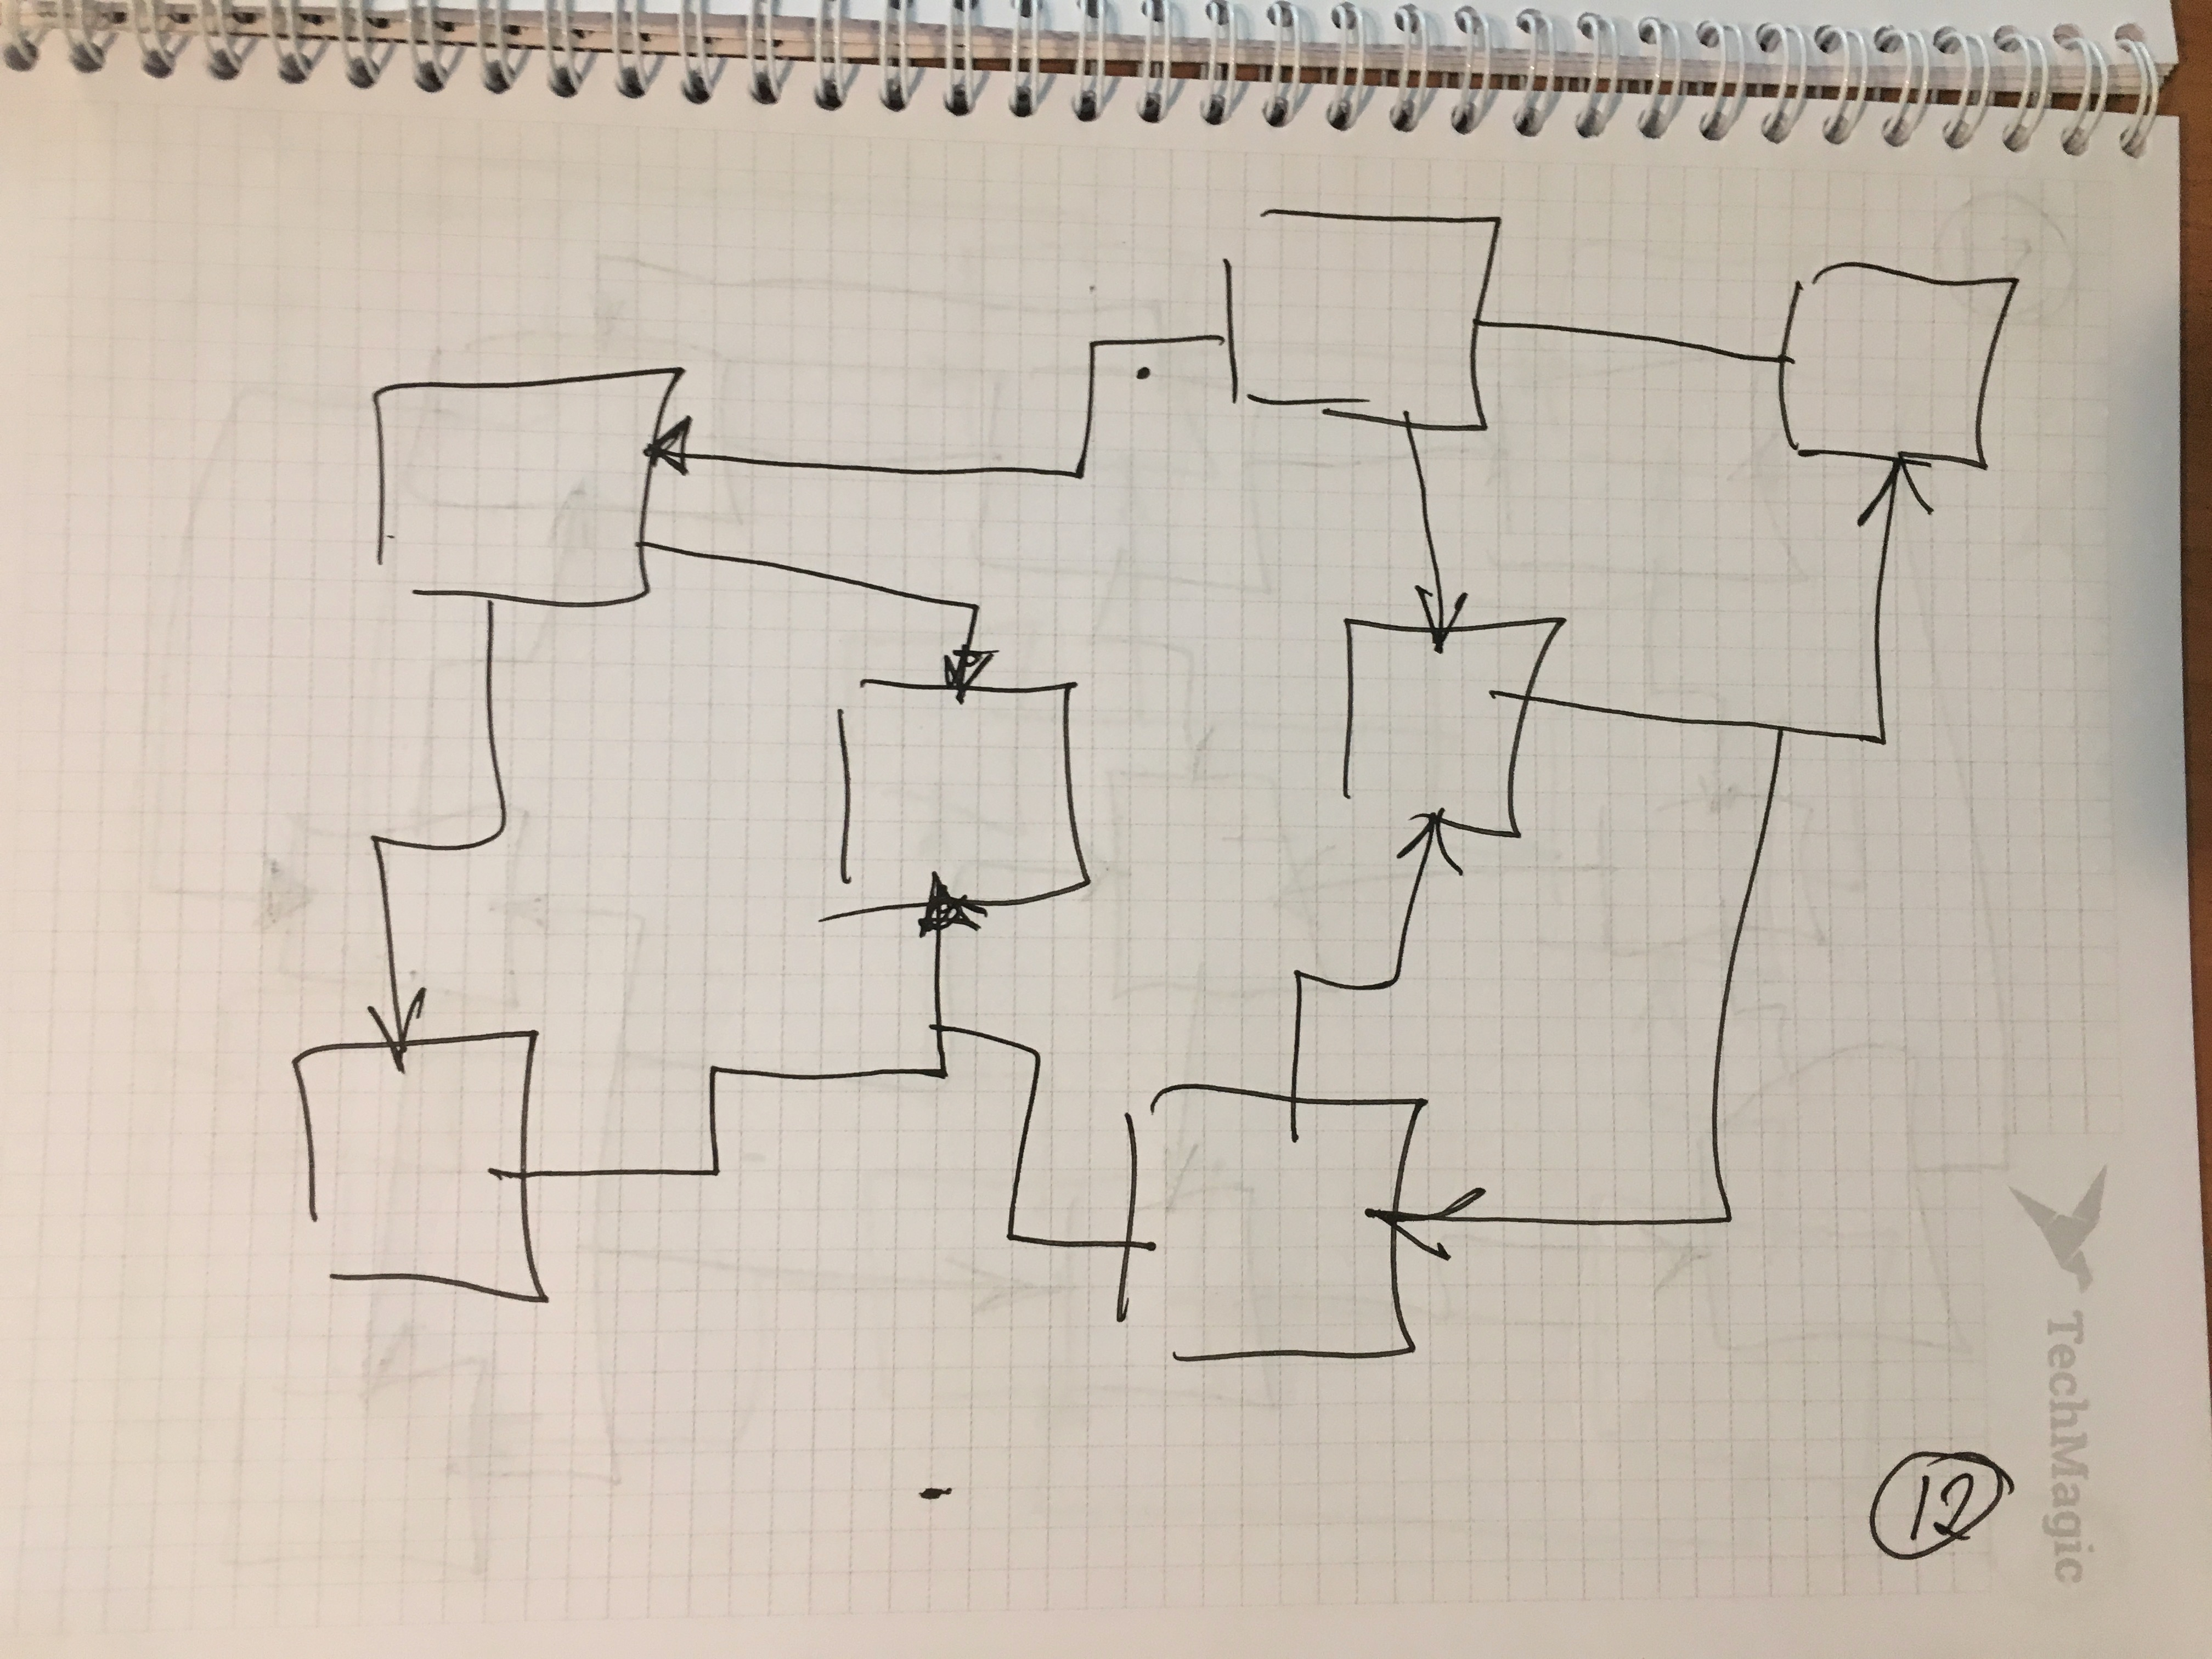arrow: (1367, 1178, 1538, 1263), (1857, 441, 1939, 603), (357, 945, 442, 1077), (904, 864, 996, 976), (1392, 802, 1461, 936), (624, 413, 754, 477), (1400, 535, 1470, 655), (932, 615, 1003, 713)
